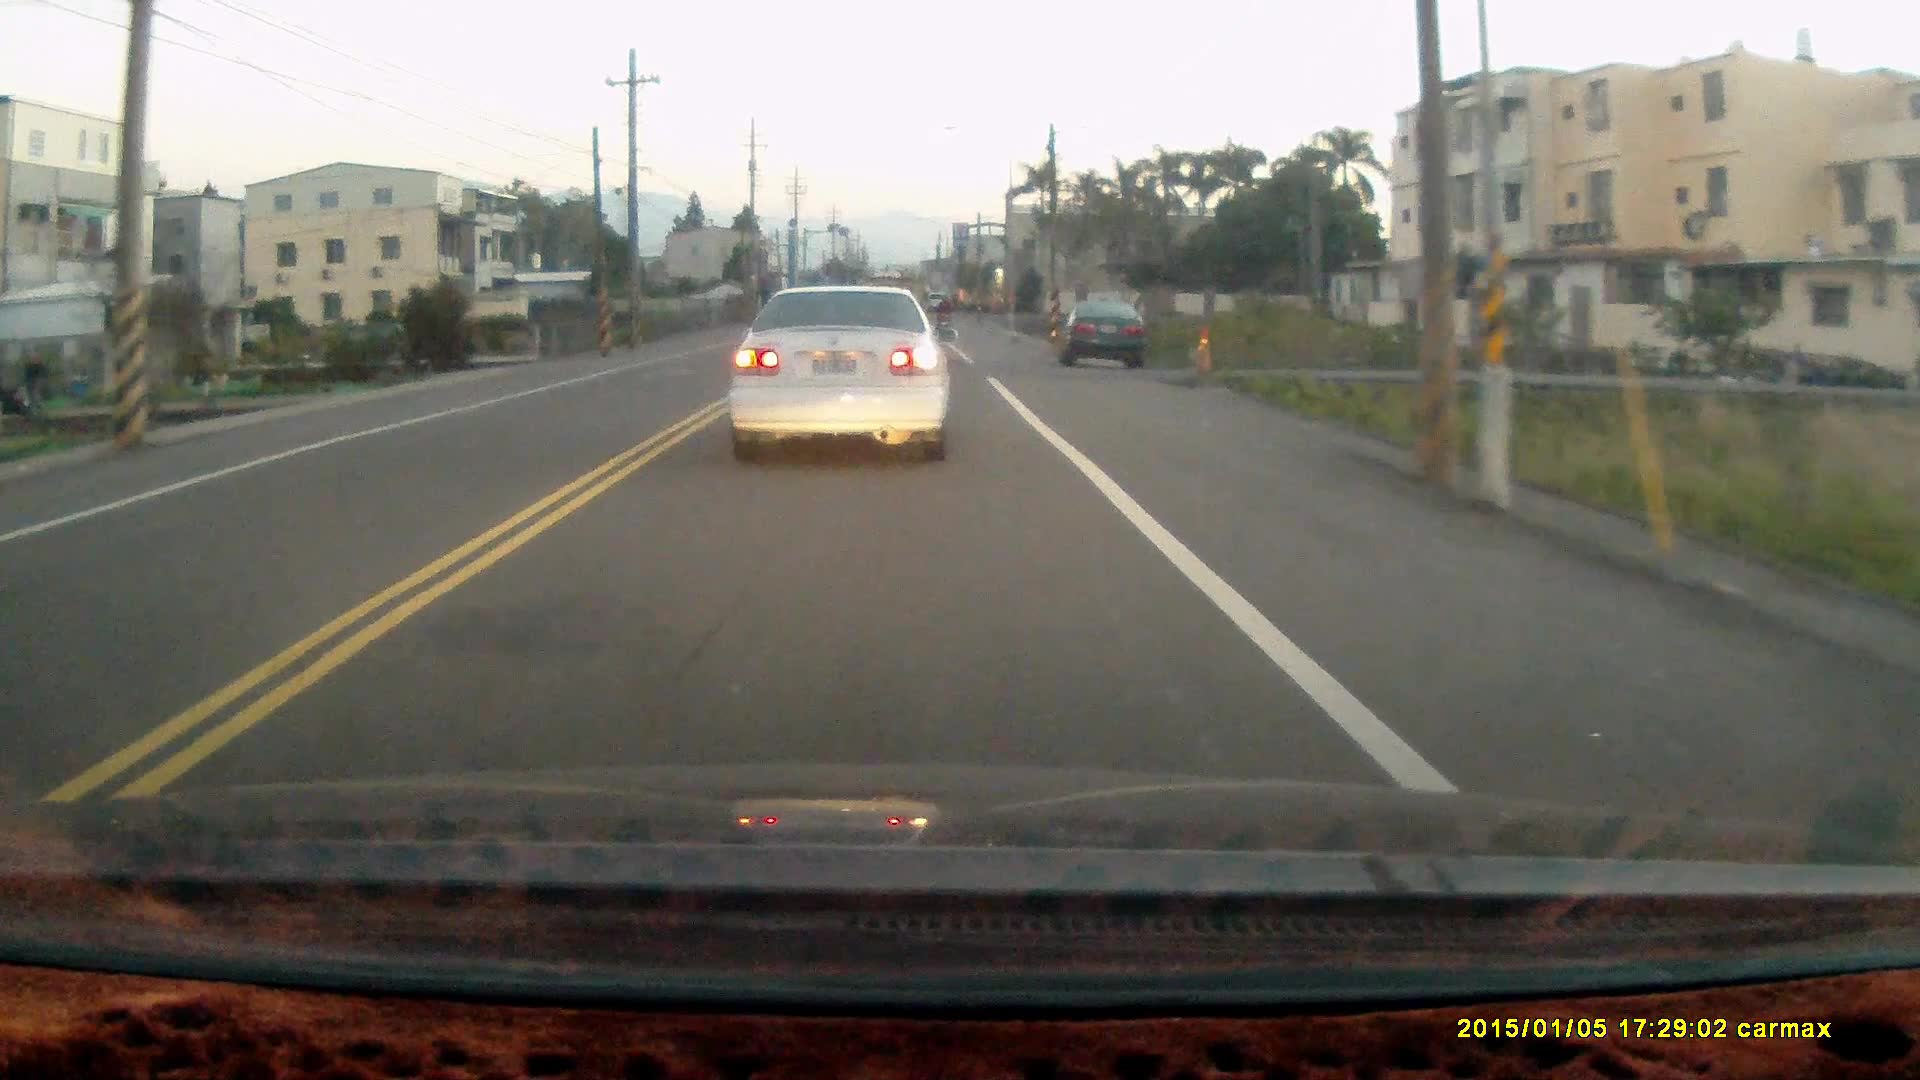pedestrian: (19, 346, 45, 412)
vehicle: (725, 279, 955, 469), (1056, 294, 1147, 366)
